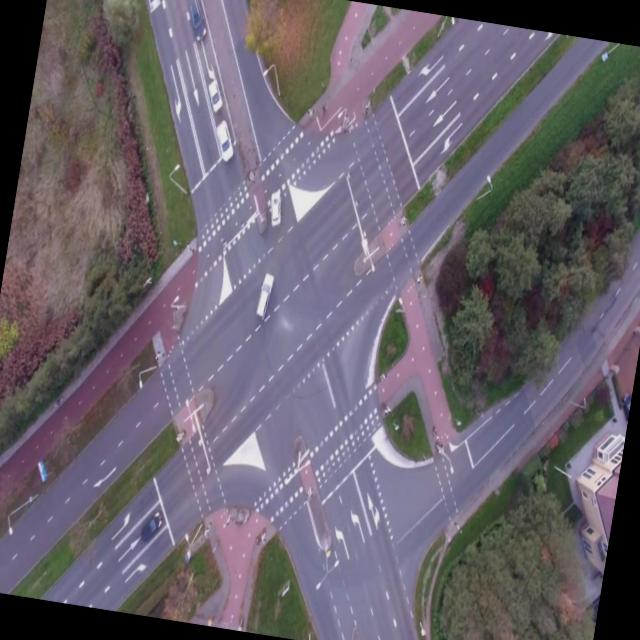car: (250, 270, 282, 325), (207, 118, 241, 164), (180, 0, 212, 43), (198, 68, 228, 112), (138, 507, 166, 542)
